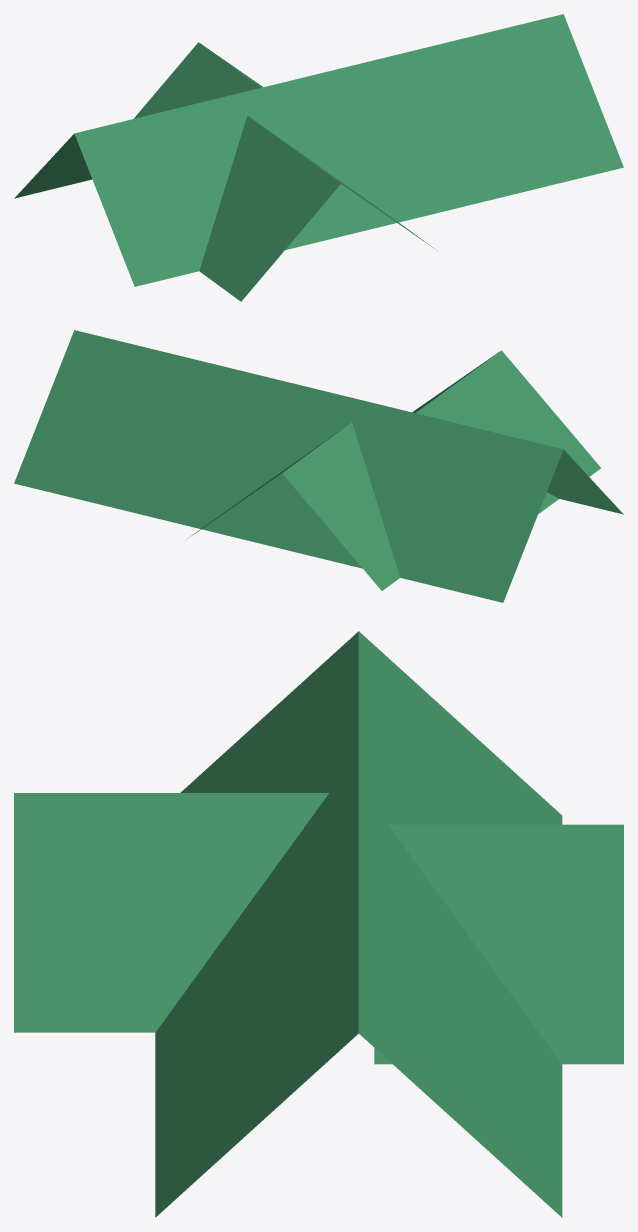
Rendered from kitchen-shingles.obj.
The picture shows the model from 3 angles, top to bottom: view 1: azimuth 30°, elevation 25°; view 2: azimuth 150°, elevation 25°; view 3: azimuth 270°, elevation 25°; orthographic projection. The views are drawn at different scales.
Visible parts, largest first — view 1: roof_Cube.015; view 2: roof_Cube.015; view 3: roof_Cube.015.
Boxes of the visible parts, x1,y1,x2,y2 form: roof_Cube.015: [14, 14, 623, 301]; roof_Cube.015: [14, 330, 623, 602]; roof_Cube.015: [14, 631, 623, 1217].
Size of the model in its own units: 45.51 by 9.72 by 29.15.
1 material, 1 textured.
